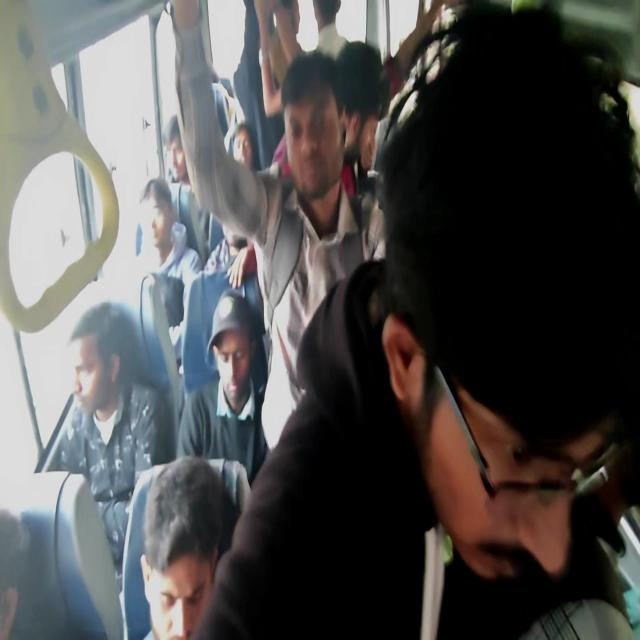person: (184, 5, 638, 638), (170, 1, 388, 457), (46, 301, 172, 588), (176, 288, 269, 486), (138, 454, 228, 638), (334, 40, 384, 194), (139, 177, 202, 286), (311, 0, 350, 62), (162, 114, 190, 184)
